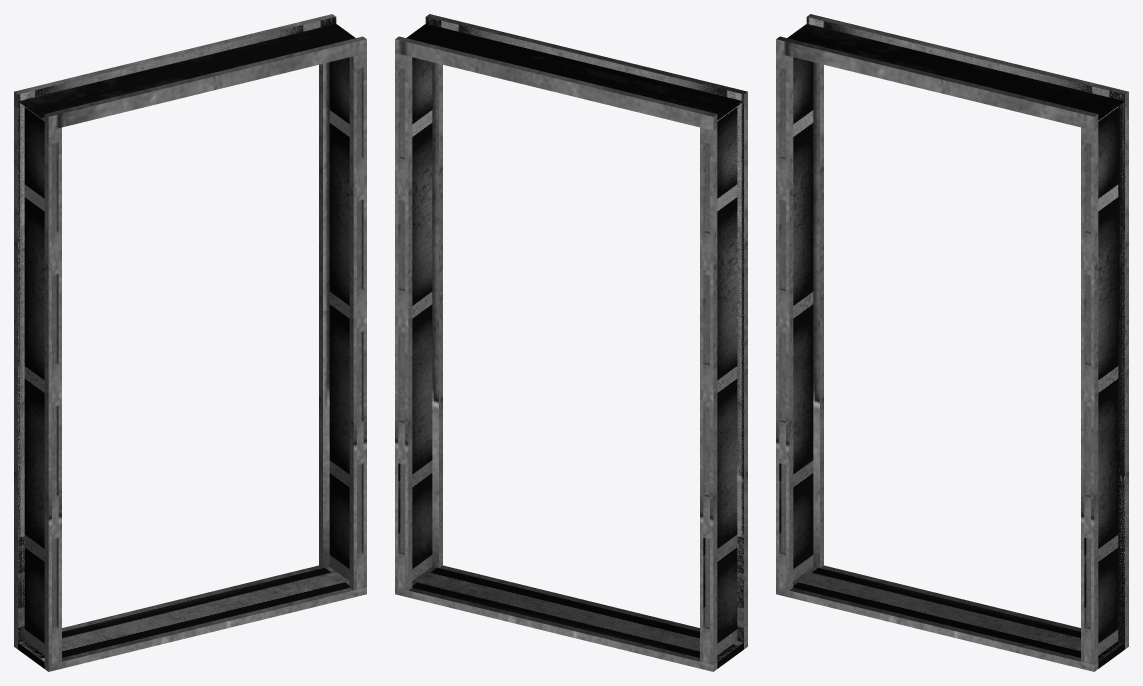
File: DoorFrame.obj
The picture shows the model from 3 angles, left to right: view 1: azimuth 30°, elevation 25°; view 2: azimuth 150°, elevation 25°; view 3: azimuth 330°, elevation 25°; orthographic projection.
Parts seen in each view (by area): view 1: r06jwdwwg3yv; view 2: r06jwdwwg3yv; view 3: r06jwdwwg3yv.
Boxes of the visible parts, x1,y1,x2,y2 form: r06jwdwwg3yv: [14, 14, 366, 671]; r06jwdwwg3yv: [395, 14, 747, 671]; r06jwdwwg3yv: [776, 14, 1128, 671].
Size of the model in its own units: 1.03 by 1.72 by 0.1931.
